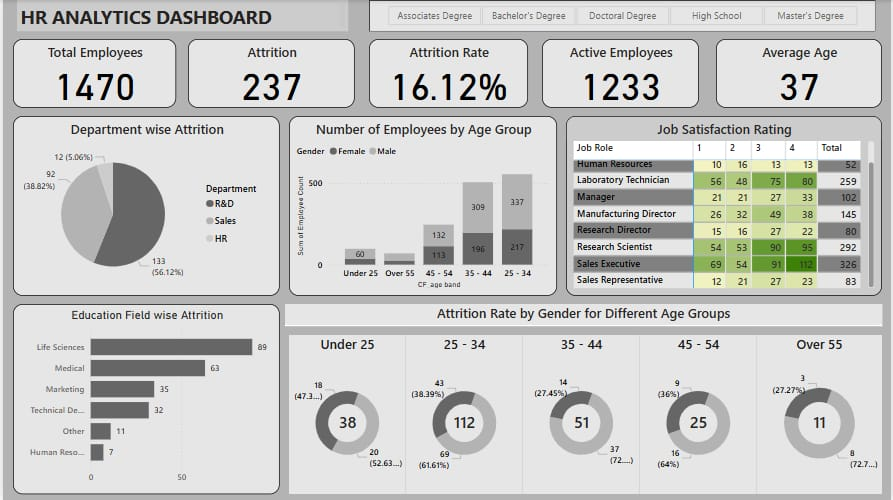

The page's visual inventory and layout, read from the dashboard file:
{"tool":"powerbi","page":{"name":"Home","canvas":[1280,720],"ordinal":0},"visuals":[{"type":"card","title":"Total Employees","fields":{"Values":["Sum(HR data.Employee Count)"]},"box":[14.4,56.2,234.7,99.4],"z":0},{"type":"card","title":"Attrition","fields":{"Values":["Sum(HR data.Attrition Count)"]},"box":[266.4,56.2,240.5,99.4],"z":1000},{"type":"card","title":"Attrition Rate","fields":{"Values":["HR data.Attrition Rate"]},"box":[527,56.2,229,99.4],"z":2000},{"type":"card","title":"Active Employees","fields":{"Values":["HR data.Active Employee Count"]},"box":[776.2,56.2,226.1,99.4],"z":3000},{"type":"card","title":"Average Age","fields":{"Values":["Avg(HR data.Age)"]},"box":[1026.7,56.2,239,99.4],"z":4000},{"type":"pieChart","title":"Department wise Attrition","fields":{"Category":["HR data.Department"],"Y":["Sum(HR data.Attrition Count)"]},"box":[14.4,167,384.5,259.2],"z":5000},{"type":"columnChart","title":"Number of Employees by Age Group","fields":{"Category":["HR data.CF_age band"],"Y":["Sum(HR data.Employee Count)"],"Series":["HR data.Gender"]},"box":[411.8,167,385.9,259.2],"z":6000},{"type":"pivotTable","title":"Job Satisfaction Rating","fields":{"Rows":["HR data.Job Role"],"Columns":["HR data.Job Satisfaction"],"Values":["Sum(HR data.Employee Count)"]},"box":[810.7,167,455,259.2],"z":7000},{"type":"barChart","title":"Education Field wise Attrition","fields":{"Category":["HR data.Education Field"],"Y":["Sum(HR data.Attrition Count)"]},"box":[14.4,437.8,384.5,273.6],"z":8000},{"type":"donutChart","title":"Under 25","fields":{"Category":["HR data.Gender"],"Y":["Sum(HR data.Attrition Count)"],"Series":["HR data.CF_age band"]},"box":[411.8,482.4,168.5,229],"z":9000},{"type":"textbox","title":"Attrition Rate by Gender for Different Age Groups","box":[406.1,437.8,859.7,31.7],"z":10000},{"type":"donutChart","title":"25 - 34","fields":{"Category":["HR data.Gender"],"Y":["Sum(HR data.Attrition Count)"],"Series":["HR data.CF_age band"]},"box":[580.3,482.4,168.5,229],"z":11000},{"type":"donutChart","title":"35 - 44","fields":{"Category":["HR data.Gender"],"Y":["Sum(HR data.Attrition Count)"],"Series":["HR data.CF_age band"]},"box":[748.8,482.4,168.5,229],"z":12000},{"type":"donutChart","title":"45 - 54","fields":{"Category":["HR data.Gender"],"Y":["Sum(HR data.Attrition Count)"],"Series":["HR data.CF_age band"]},"box":[917.3,482.4,168.5,229],"z":13000},{"type":"donutChart","title":"Over 55","fields":{"Category":["HR data.Gender"],"Y":["Sum(HR data.Attrition Count)"],"Series":["HR data.CF_age band"]},"box":[1085.8,482.4,180,229],"z":14000},{"type":"card","fields":{"Values":["Sum(HR data.Attrition Count)"]},"box":[473.8,584.6,44.6,47.5],"z":15000},{"type":"card","fields":{"Values":["Sum(HR data.Attrition Count)"]},"box":[642.2,584.6,44.6,47.5],"z":16000},{"type":"card","fields":{"Values":["Sum(HR data.Attrition Count)"]},"box":[810.7,584.6,44.6,47.5],"z":17000},{"type":"card","fields":{"Values":["Sum(HR data.Attrition Count)"]},"box":[979.2,584.6,44.6,47.5],"z":17001},{"type":"card","fields":{"Values":["Sum(HR data.Attrition Count)"]},"box":[1153.4,584.6,44.6,47.5],"z":17002},{"type":"textbox","box":[20.2,0,476.6,44.6],"z":17003},{"type":"slicer","fields":{"Values":["HR data.Education"]},"box":[527,0,728.6,44.6],"z":17004}]}

Visuals, with their boxes in screenshot pixels (x1, y1, x2, y2), scaled from the page's 1280x720 canvas onto the 893x500 screenshot:
"Total Employees" card: 10,39,174,108
"Attrition" card: 186,39,354,108
"Attrition Rate" card: 368,39,527,108
"Active Employees" card: 542,39,699,108
"Average Age" card: 716,39,883,108
"Department wise Attrition" pieChart: 10,116,278,296
"Number of Employees by Age Group" columnChart: 287,116,557,296
"Job Satisfaction Rating" pivotTable: 566,116,883,296
"Education Field wise Attrition" barChart: 10,304,278,494
"Under 25" donutChart: 287,335,405,494
"Attrition Rate by Gender for Different Age Groups" textbox: 283,304,883,326
"25 - 34" donutChart: 405,335,522,494
"35 - 44" donutChart: 522,335,640,494
"45 - 54" donutChart: 640,335,758,494
"Over 55" donutChart: 758,335,883,494
card - Sum(HR data.Attrition Count): 331,406,362,439
card - Sum(HR data.Attrition Count): 448,406,479,439
card - Sum(HR data.Attrition Count): 566,406,597,439
card - Sum(HR data.Attrition Count): 683,406,714,439
card - Sum(HR data.Attrition Count): 805,406,836,439
textbox: 14,0,347,31
slicer - HR data.Education: 368,0,876,31
